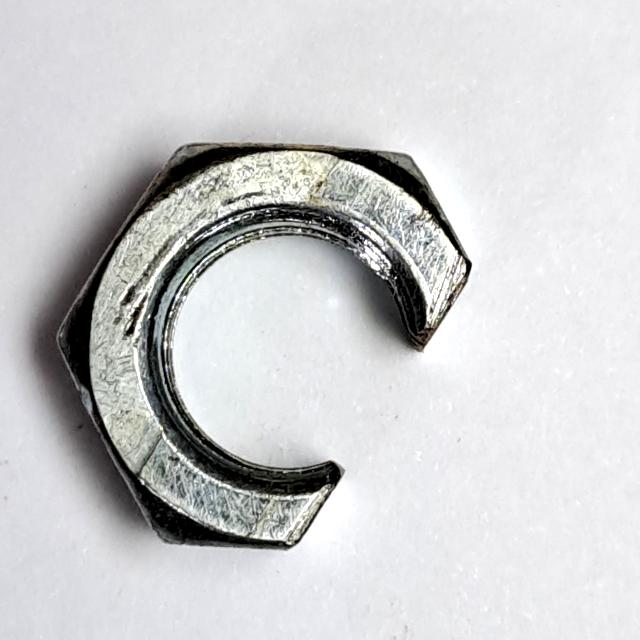Fracture: (43, 113, 490, 573)
